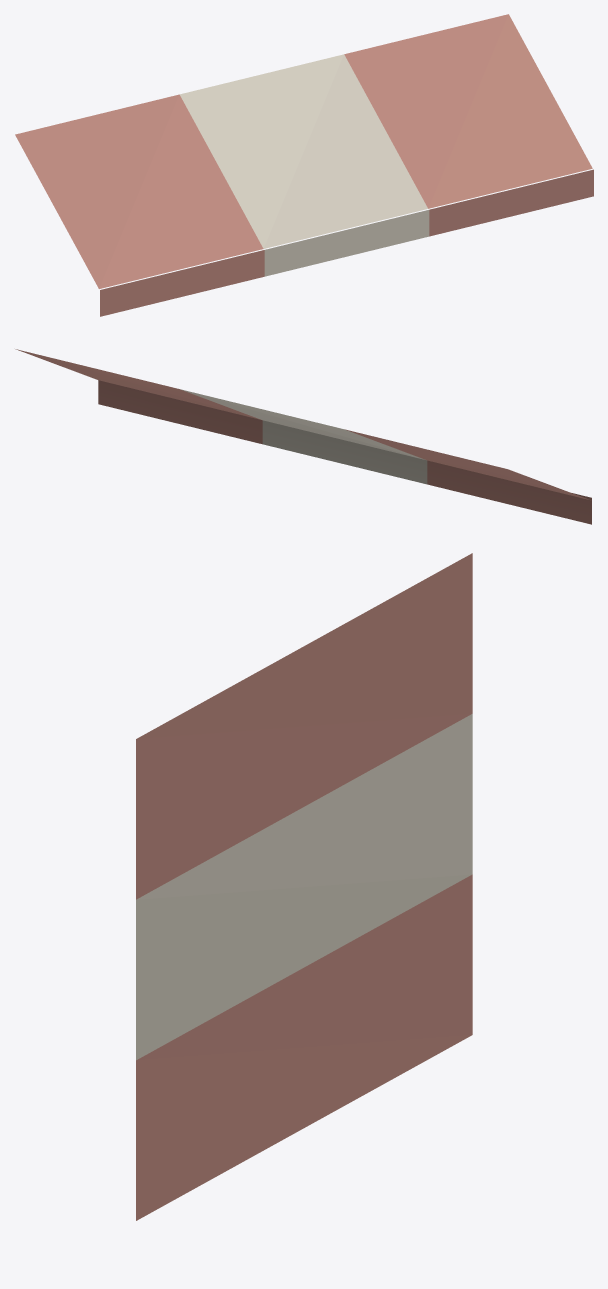
File: awning.lod2.glb
The picture shows the model from 3 angles, top to bottom: view 1: azimuth 30°, elevation 25°; view 2: azimuth 150°, elevation 25°; view 3: azimuth 270°, elevation 25°; orthographic projection. The views are drawn at different scales.
Size of the model in its own units: 4 by 0.928 by 1.21.
